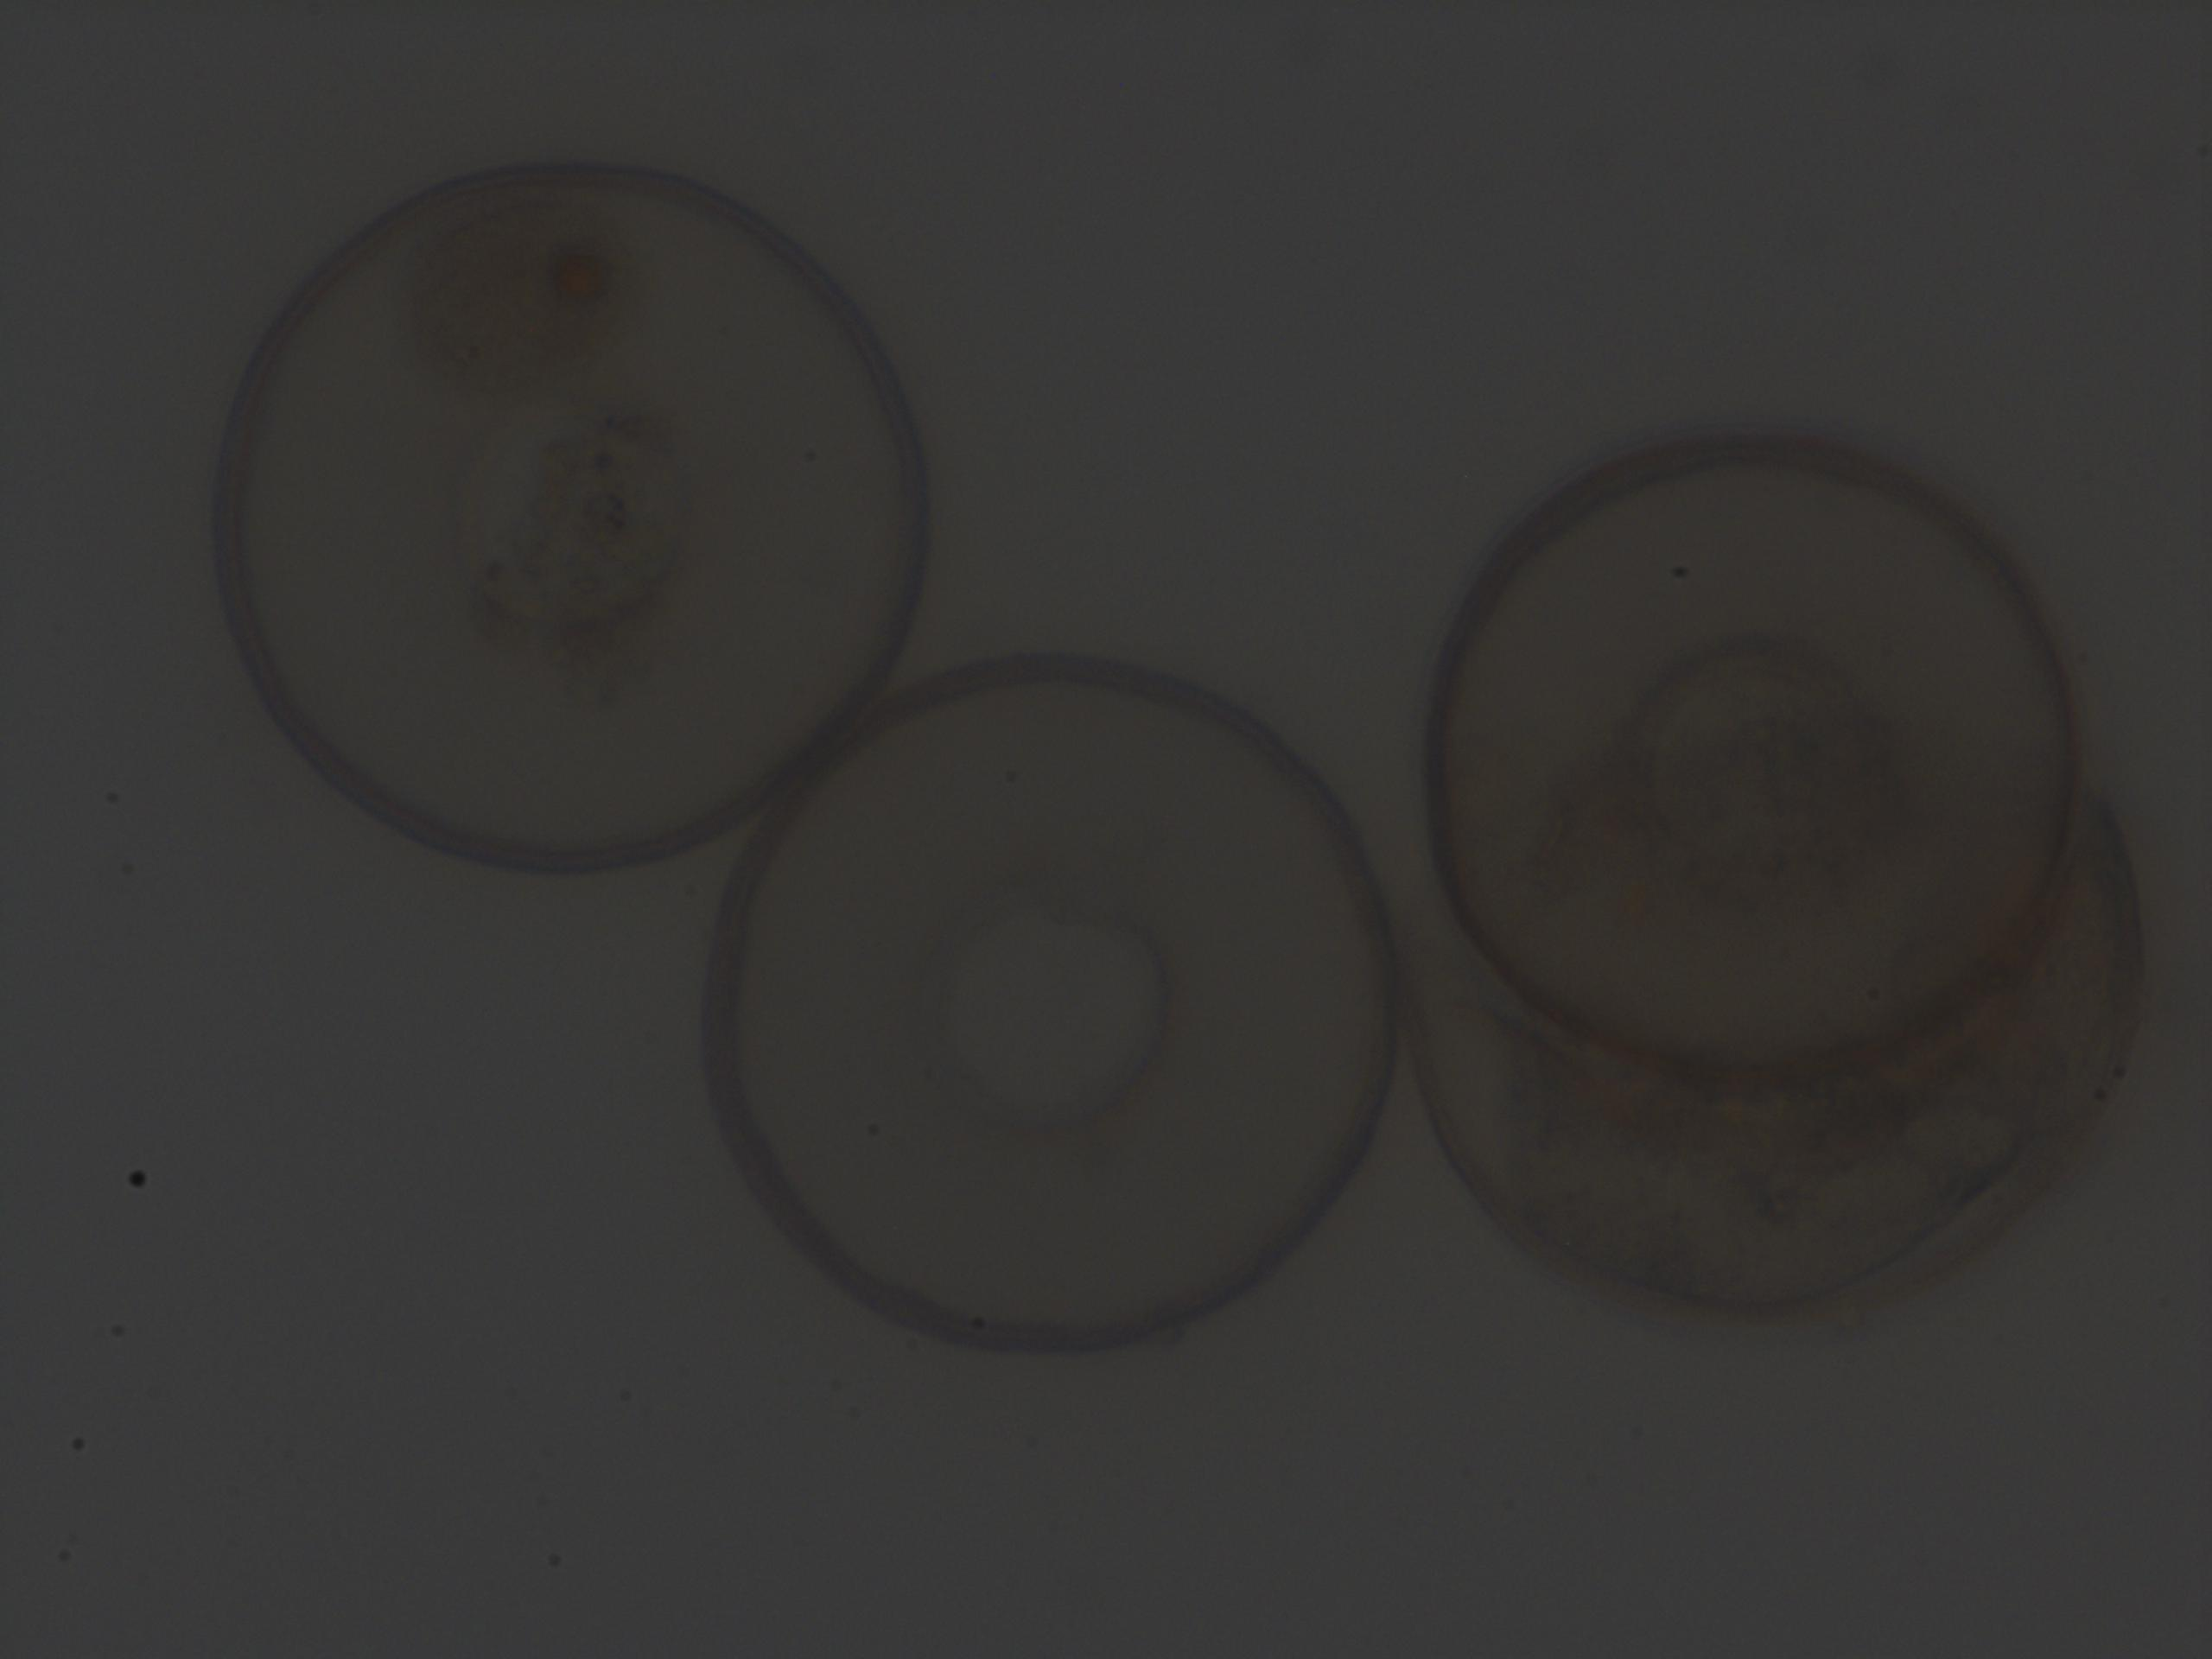protozoa: (185, 143, 958, 896), (698, 647, 1416, 1375), (1425, 403, 2092, 1094)
